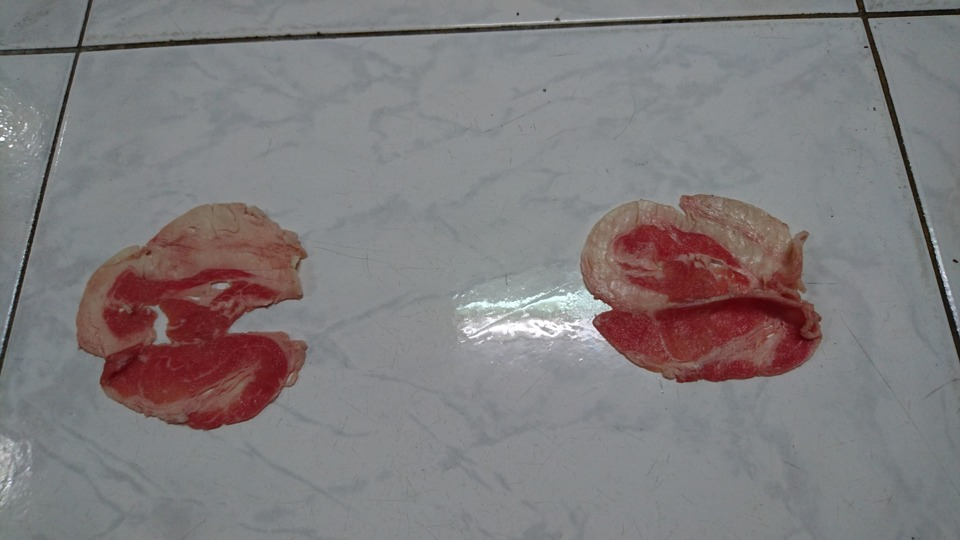restructured meat: (72, 191, 307, 431), (578, 182, 821, 382)
